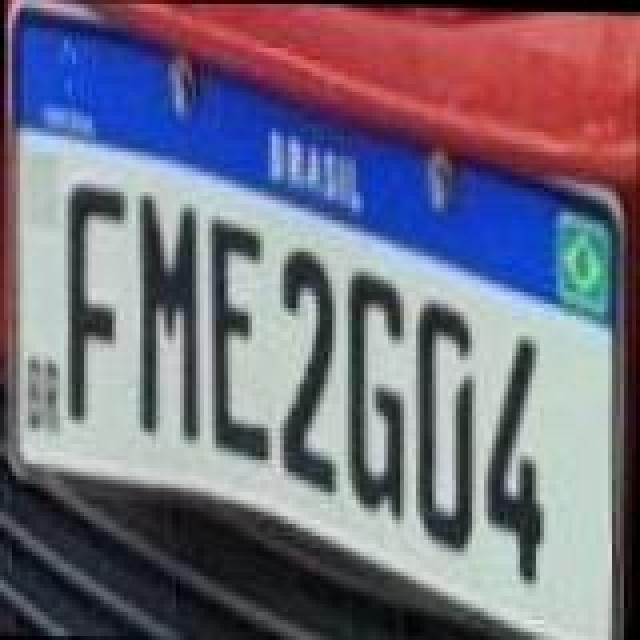2: (276, 244, 344, 500)
4: (482, 330, 550, 586)
D: (410, 306, 478, 558)
E: (206, 216, 278, 464)
F: (60, 182, 128, 430)
G: (340, 256, 412, 524)
M: (134, 190, 206, 442)
